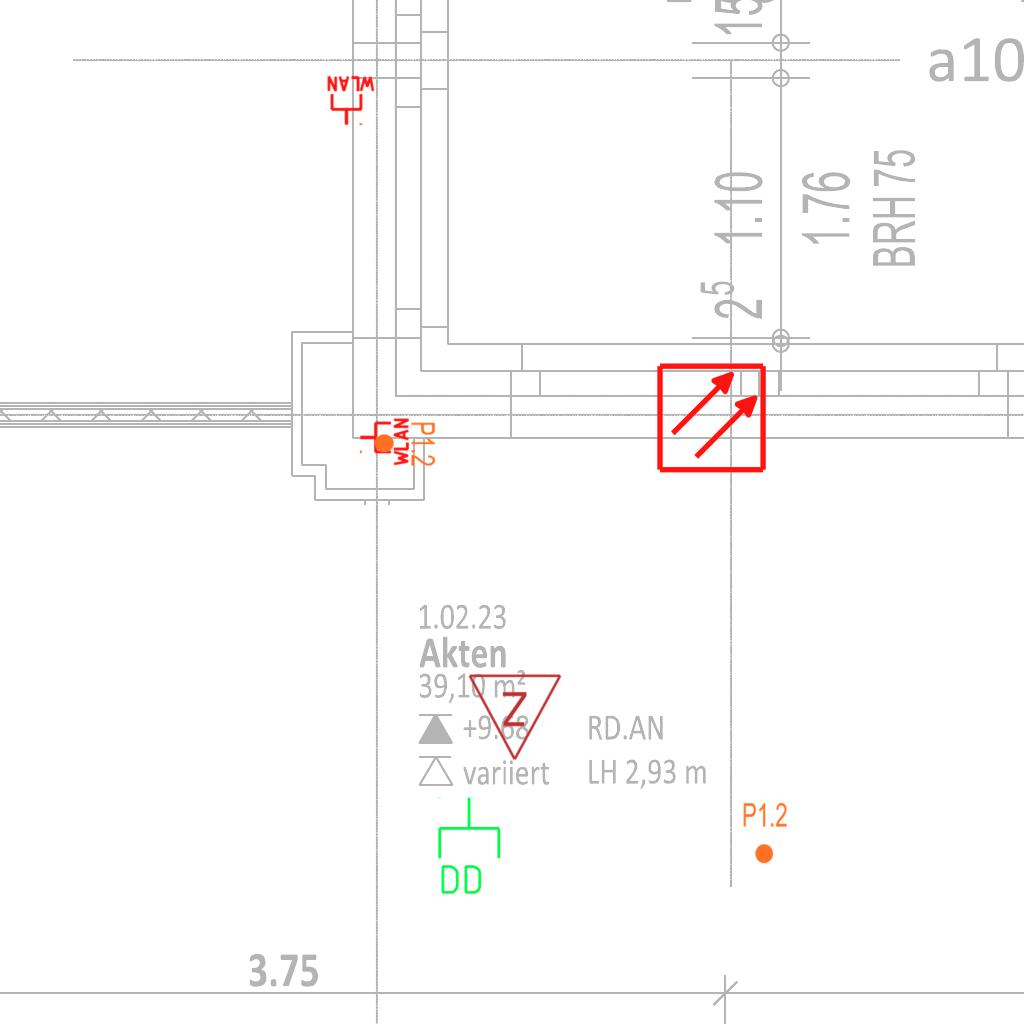Datenanschluss_zweifach: (434, 795, 503, 898)
Downlight_LED_Einbauleuchten_Flur: (742, 801, 788, 865), (373, 421, 437, 467)
RMO_Rauchmelder_optischer: (655, 361, 768, 474)
WLAN: (358, 416, 410, 468), (325, 75, 377, 127)
Zimmersignalleuchte: (467, 667, 565, 767)
